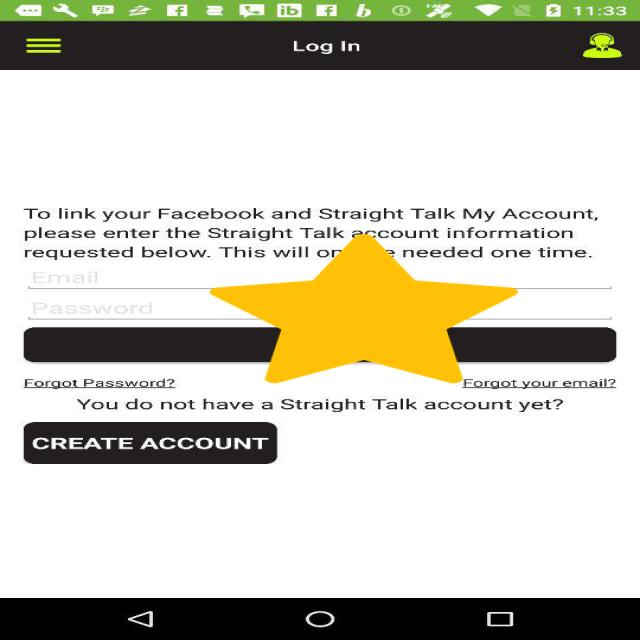forced continuity: (210, 234, 518, 383)
